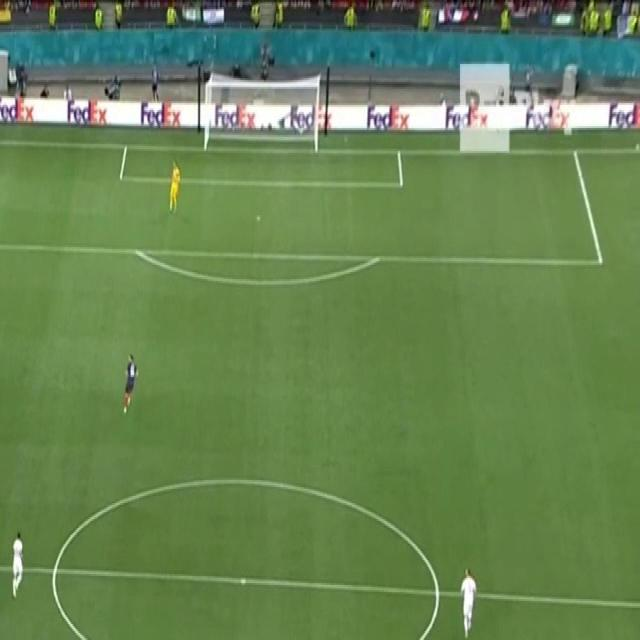another-player: (123, 354, 139, 413)
player-white: (460, 566, 478, 638), (12, 531, 24, 599)
referee: (169, 159, 181, 215)
